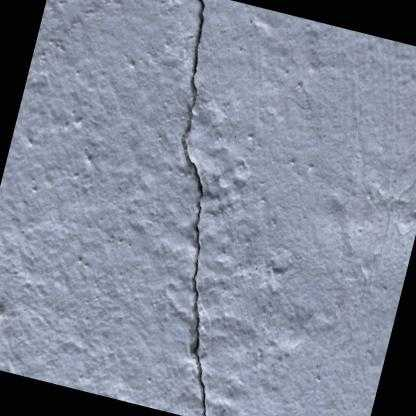crack: (181, 0, 208, 416)
